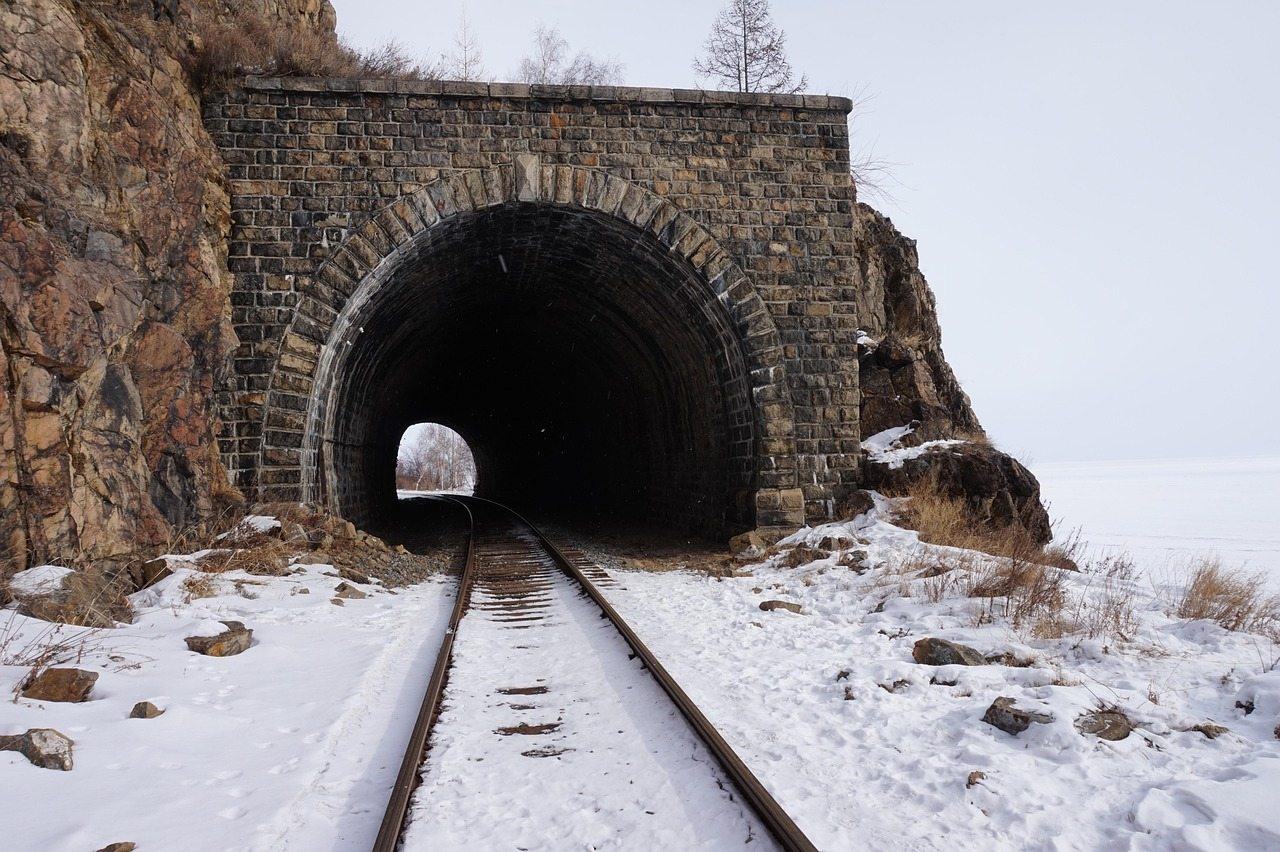voie1: (365, 485, 805, 842)
